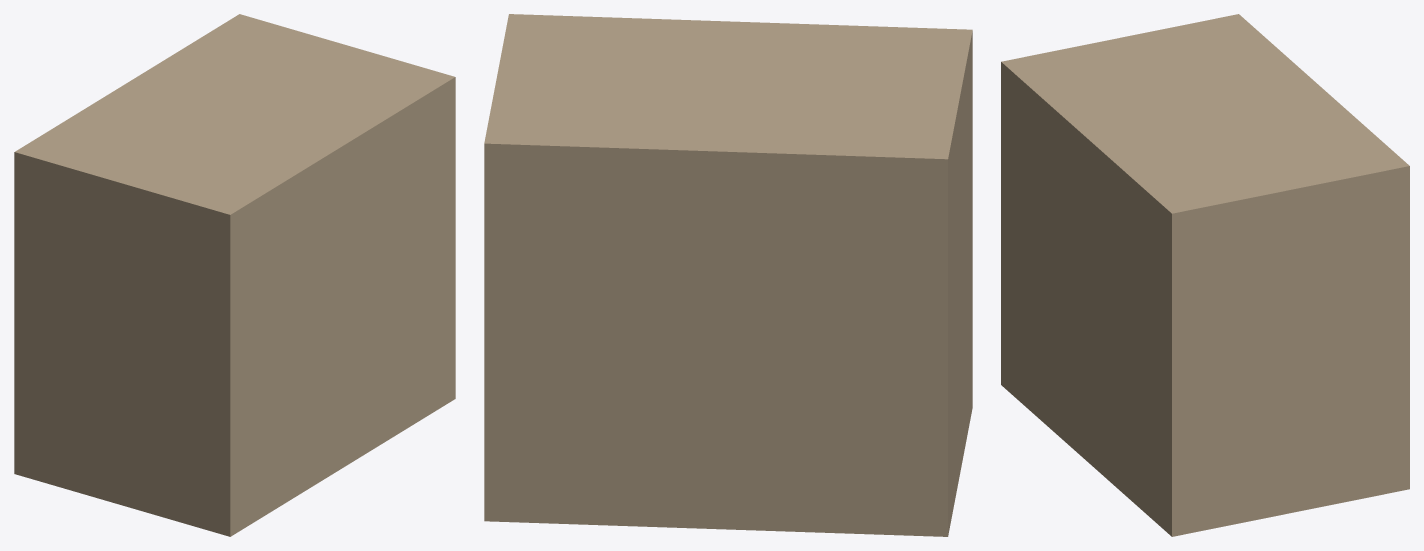
Rendered from bld_99872122.dae.
3 views of the same model, side by side, from view 1: azimuth 30°, elevation 25°; view 2: azimuth 150°, elevation 25°; view 3: azimuth 270°, elevation 25° (orthographic). The views are drawn at different scales.
Visible parts, largest first — view 1: bld_99872122; view 2: bld_99872122; view 3: bld_99872122.
Part boxes in pixels (x1,y1,x2,y2): bld_99872122: [14, 14, 455, 536]; bld_99872122: [484, 14, 972, 536]; bld_99872122: [1001, 14, 1409, 536].
Bounding box in the file's own units: 10.6 × 9.17 × 8.
